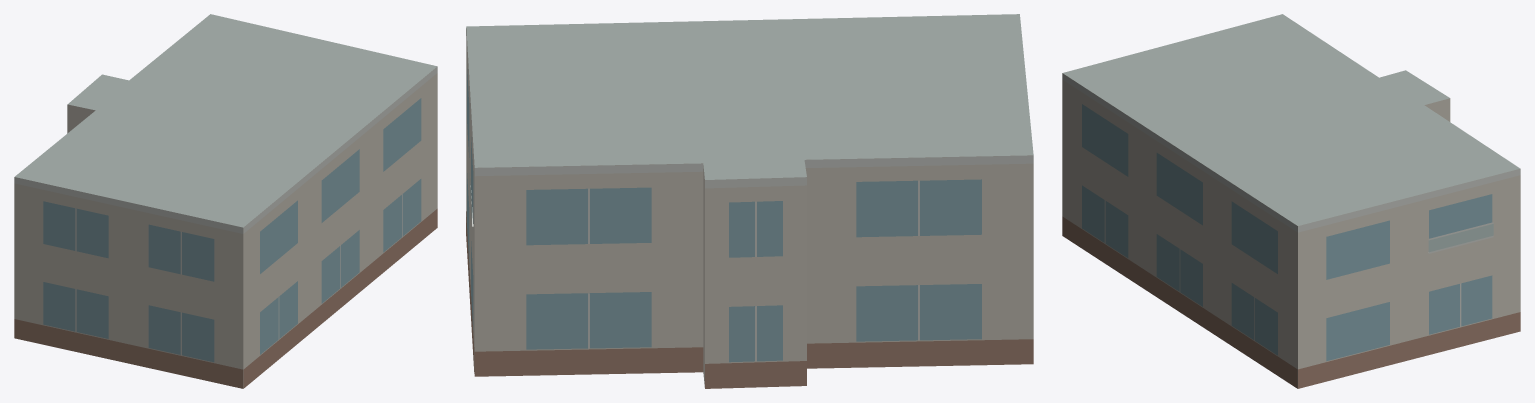
The model's file is survey-upis-32623870.glb.
3 renders of one model, left to right at view 1: azimuth 30°, elevation 25°; view 2: azimuth 150°, elevation 25°; view 3: azimuth 270°, elevation 25°, orthographic. The views are drawn at different scales.
Visible parts, largest first — view 1: survey-upis-32623870.tmp; view 2: survey-upis-32623870.tmp; view 3: survey-upis-32623870.tmp.
Part boxes in pixels (bbox=[...]): survey-upis-32623870.tmp: bbox=[14, 14, 437, 388]; survey-upis-32623870.tmp: bbox=[466, 14, 1033, 388]; survey-upis-32623870.tmp: bbox=[1062, 14, 1520, 388].
Bounding box in the file's own units: 17.06 × 6.1 × 15.57.
